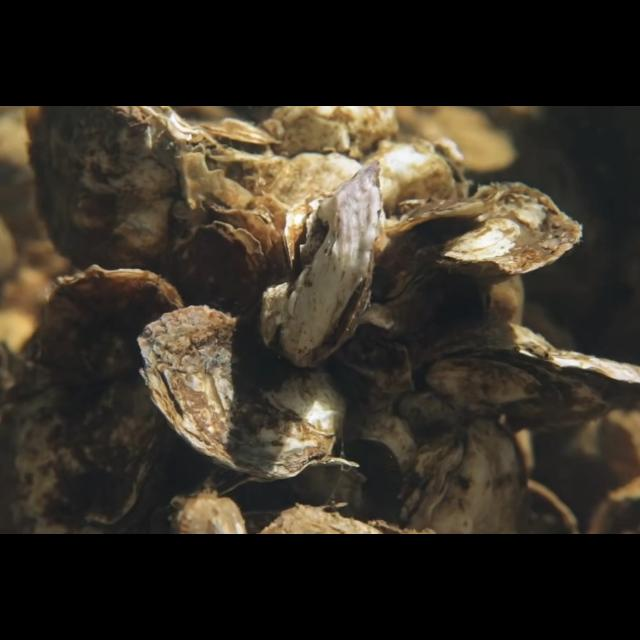Oyster-Closed: (7, 264, 185, 534), (31, 106, 226, 304), (136, 304, 352, 482), (257, 158, 381, 370), (376, 183, 584, 307), (392, 418, 534, 534), (170, 220, 266, 324)
Oyster-Open: (409, 322, 640, 436), (217, 456, 361, 516), (192, 118, 280, 166)
